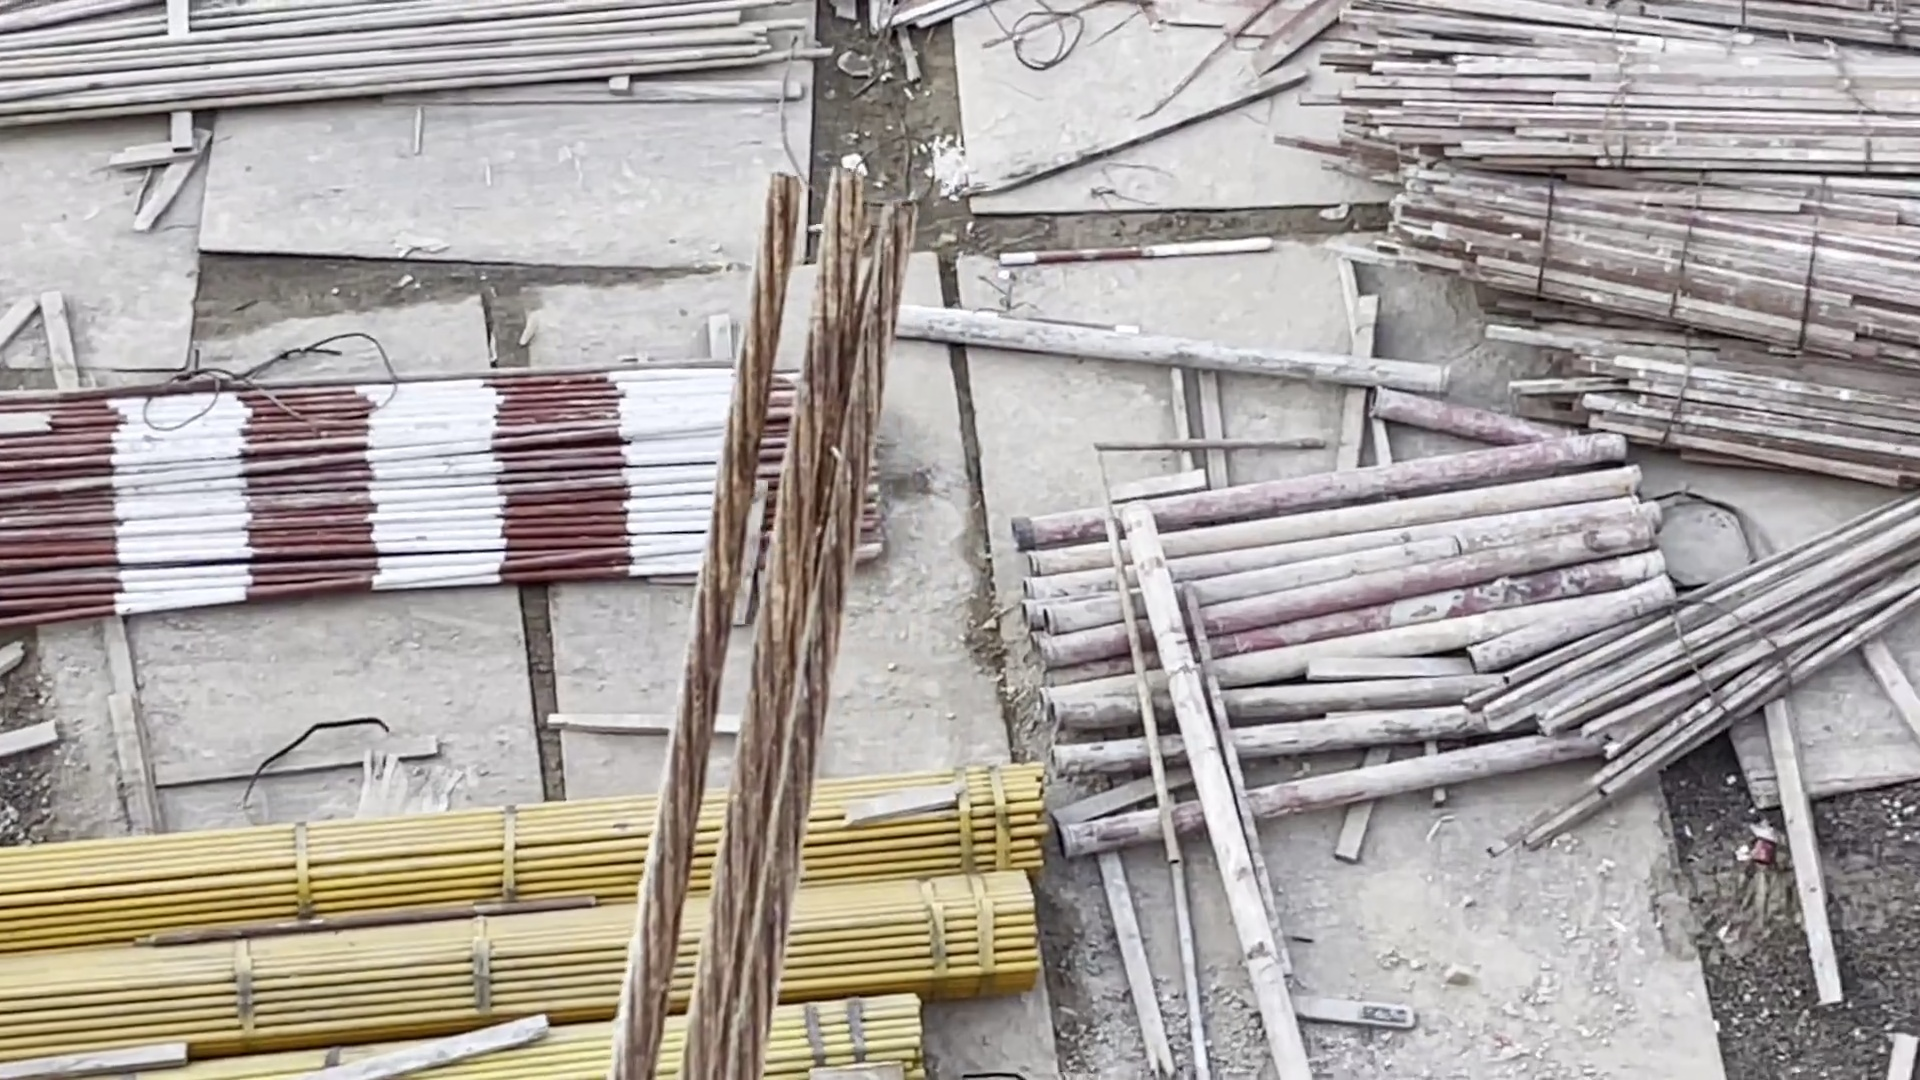scaffold: (1026, 488, 1625, 849)
wood: (1328, 4, 1920, 436)
